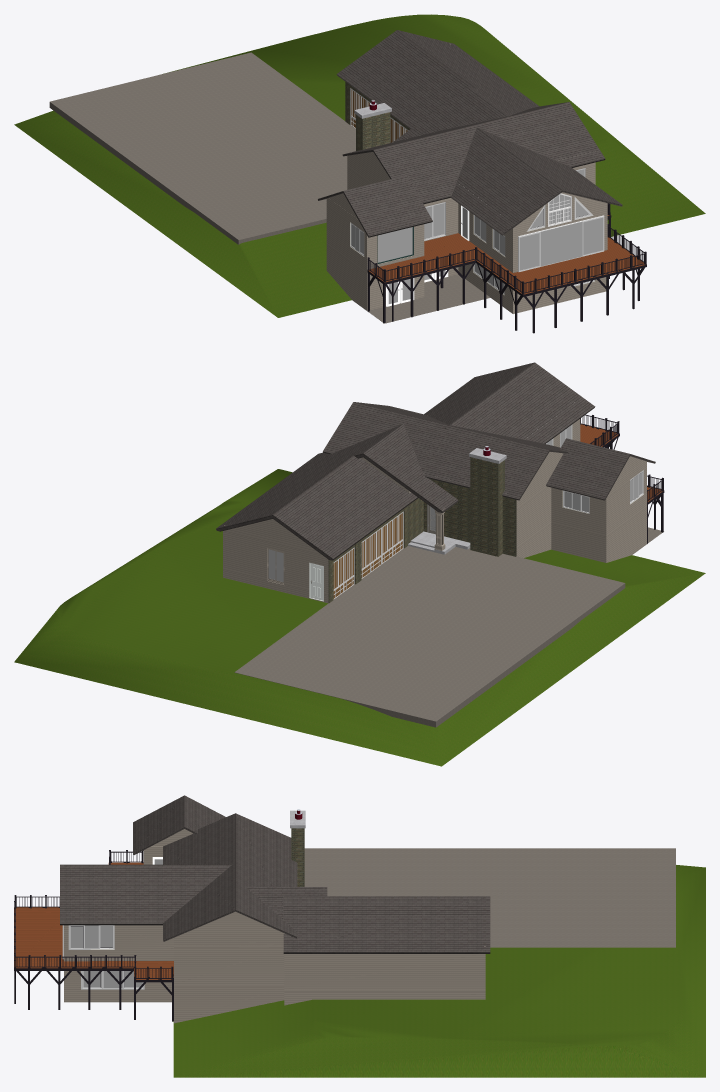
The model's file is west cedar.glb.
3 views of the same model, one above another, from view 1: azimuth 30°, elevation 25°; view 2: azimuth 150°, elevation 25°; view 3: azimuth 270°, elevation 25° (orthographic).
Visible parts, largest first — view 1: Cube (×2), Roof Side (×8), Custom Terrain, Building Block (×3), Wall (×8), Furniture, Picture Shape, Picture Window, Door, FW_Triangle_symmetry_4; view 2: Custom Terrain, Cube (×4), Roof Side (×8), Wall (×8), Multi-panel garage door 3 (×3), Roof Gable, Slab; view 3: Custom Terrain, Roof Side (×7), Cube (×3), Wall (×6), Building Block, Window 5 (×2), Roof Gable, Slab.
Boxes of the visible parts, left/top/right/bottom form: Cube (×2): left=49, top=52, right=390, bottom=244; Roof Side (×8): left=336, top=30, right=622, bottom=237; Custom Terrain: left=14, top=14, right=705, bottom=317; Building Block (×3): left=367, top=215, right=646, bottom=323; Wall (×8): left=326, top=201, right=607, bottom=313; Furniture: left=518, top=215, right=604, bottom=272; Picture Shape: left=540, top=222, right=582, bottom=266; Picture Window: left=377, top=226, right=413, bottom=263; Door: left=424, top=202, right=445, bottom=240; FW_Triangle_symmetry_4: left=548, top=193, right=571, bottom=226; Custom Terrain: left=14, top=469, right=705, bottom=766; Cube (×4): left=234, top=457, right=625, bottom=727; Roof Side (×8): left=216, top=362, right=630, bottom=560; Wall (×8): left=223, top=469, right=646, bottom=603; Multi-panel garage door 3 (×3): left=333, top=511, right=403, bottom=599; Roof Gable: left=232, top=519, right=313, bottom=548; Slab: left=223, top=506, right=646, bottom=595; Custom Terrain: left=173, top=865, right=705, bottom=1077; Roof Side (×7): left=60, top=795, right=490, bottom=953; Cube (×3): left=174, top=828, right=675, bottom=947; Wall (×6): left=64, top=925, right=485, bottom=1023; Building Block: left=14, top=907, right=173, bottom=982; Window 5 (×2): left=68, top=925, right=144, bottom=989; Roof Gable: left=184, top=911, right=284, bottom=933; Slab: left=174, top=984, right=485, bottom=992.
Bounding box in the file's own units: 37.1 × 11.18 × 51.62.
Materials: 30 (12 with a texture image).
